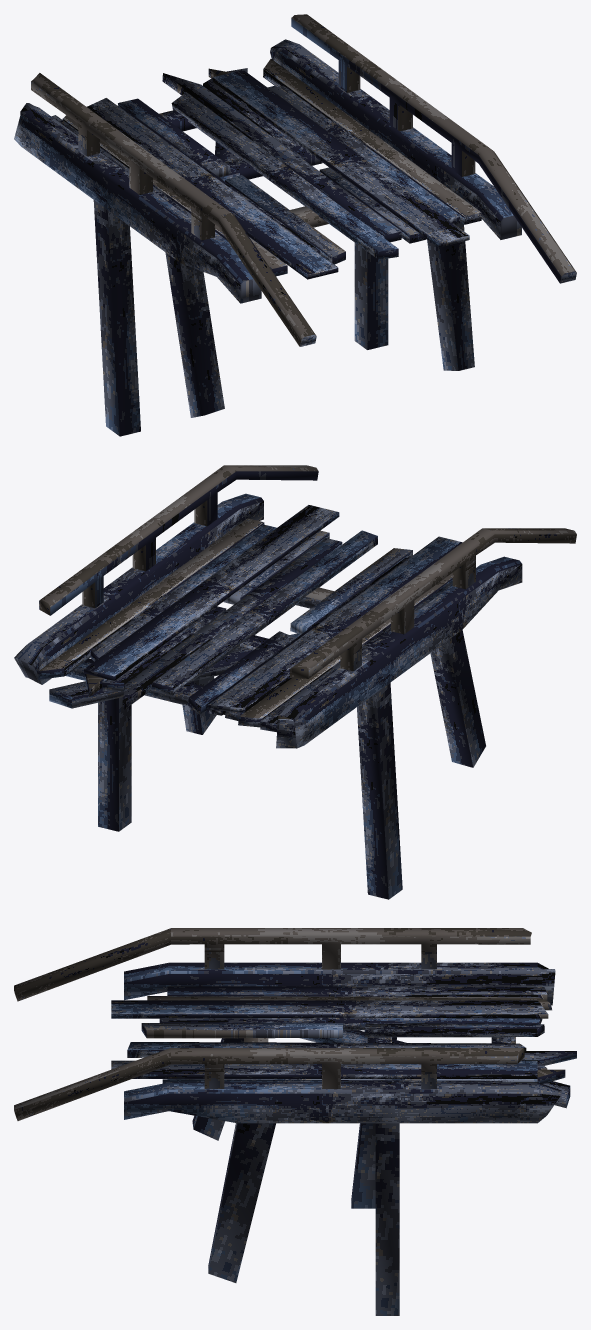
File: bridge.glb
3 views of the same model, one above another, from view 1: azimuth 30°, elevation 25°; view 2: azimuth 150°, elevation 25°; view 3: azimuth 270°, elevation 25° (orthographic). The views are drawn at different scales.
Visible parts, largest first — view 1: bridge; view 2: bridge; view 3: bridge.
Part boxes in pixels (x1=…): bridge: x1=14, y1=14, x2=576, y2=436; bridge: x1=14, y1=465, x2=576, y2=899; bridge: x1=14, y1=928, x2=576, y2=1315.
Size of the model in its own units: 2.51 by 2.47 by 4.61.
Materials: 1 (1 with a texture image).
